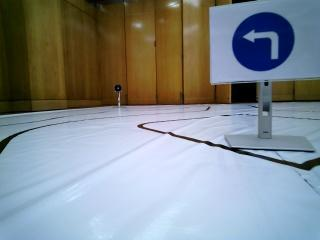left: (213, 9, 320, 72)
